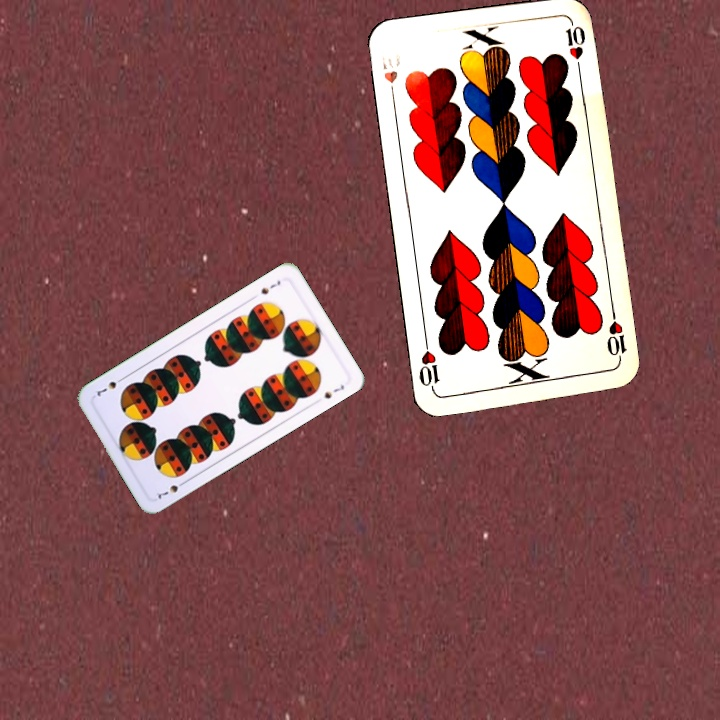H10: (602, 307, 629, 366), (377, 50, 403, 103)
S7: (151, 477, 189, 502), (257, 276, 283, 297)
